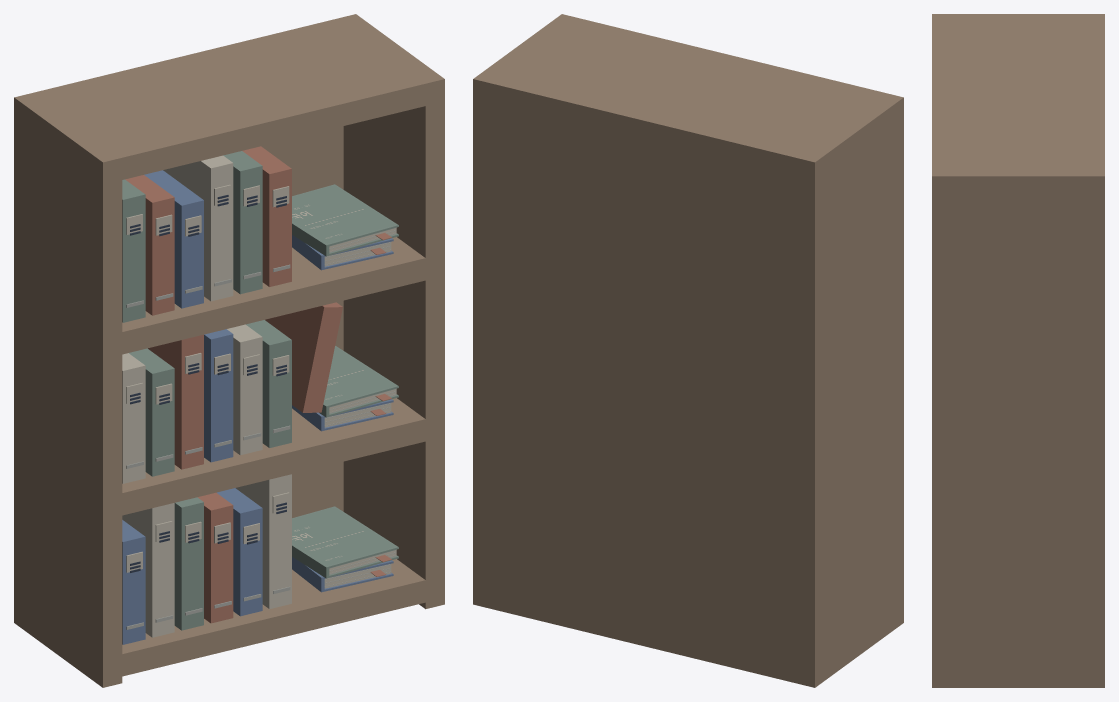
The model's file is room-student-bookshelf.glb.
The picture shows the model from 3 angles, left to right: view 1: azimuth 30°, elevation 25°; view 2: azimuth 150°, elevation 25°; view 3: azimuth 270°, elevation 25°; orthographic projection. The views are drawn at different scales.
Parts seen in each view (by area): view 1: room-student-bookshelf; view 2: room-student-bookshelf; view 3: room-student-bookshelf.
Boxes of the visible parts, <box> form: room-student-bookshelf: <box>14,14,444,687</box>; room-student-bookshelf: <box>473,14,903,687</box>; room-student-bookshelf: <box>932,14,1104,687</box>.
Bounding box in the file's own units: 1.6 × 2.35 × 0.7201.
Materials: 8 (1 with a texture image).
